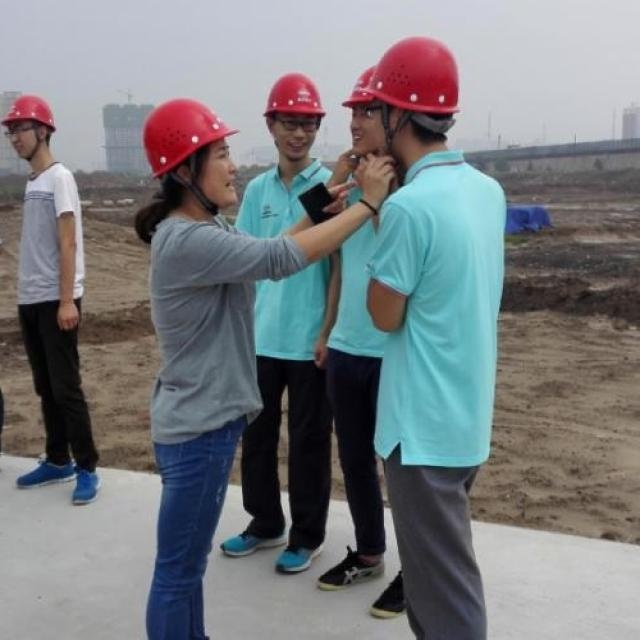Con_Casco: (370, 40, 459, 147), (146, 102, 239, 204)
